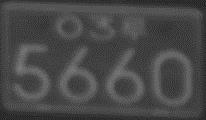0: (150, 48, 192, 107), (55, 12, 83, 40)
3: (87, 13, 114, 42)
5: (11, 42, 50, 101)
6: (58, 45, 99, 104), (105, 48, 145, 106)
루: (120, 15, 145, 41)
